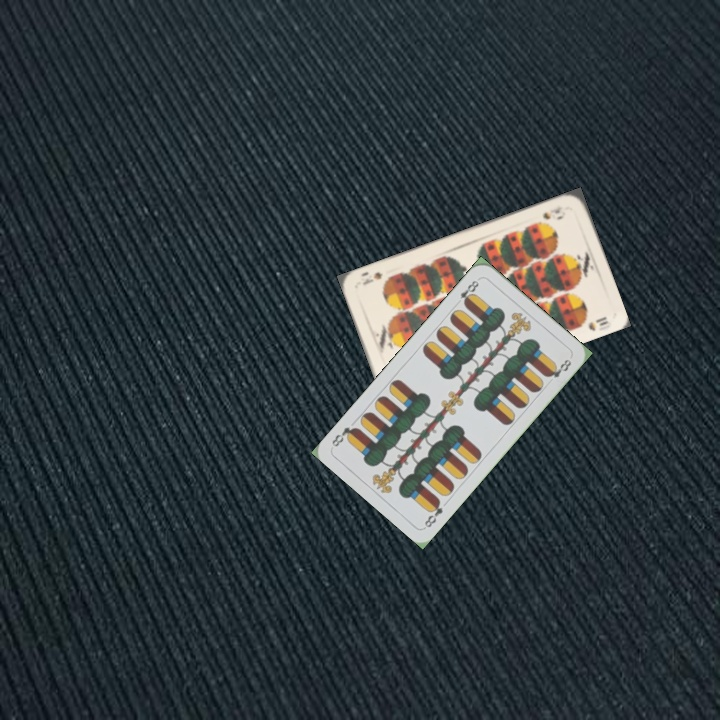E8: (451, 275, 482, 308), (420, 495, 445, 530)
S10: (539, 201, 565, 222)
